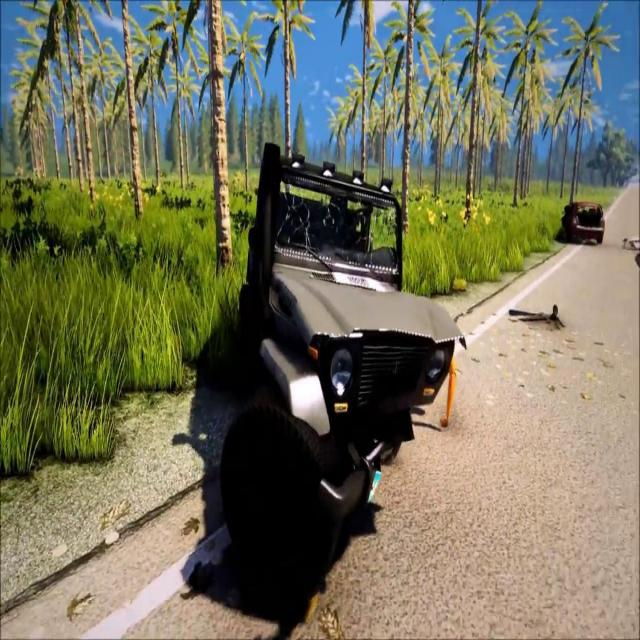accident: (219, 138, 463, 599)
